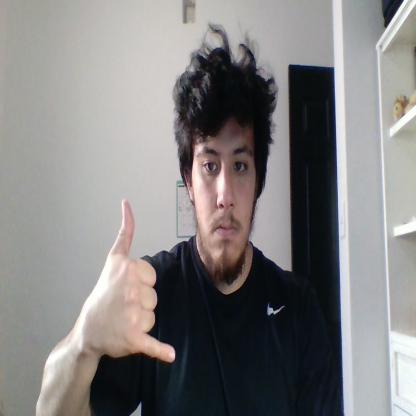Y: (99, 198, 175, 362)
